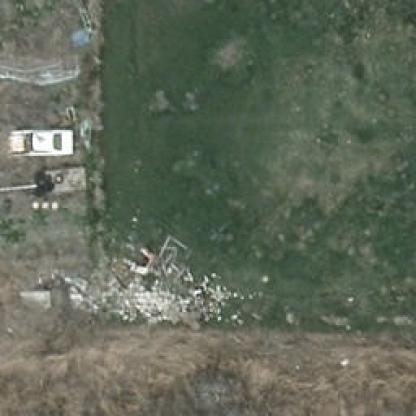car: (3, 130, 73, 156)
